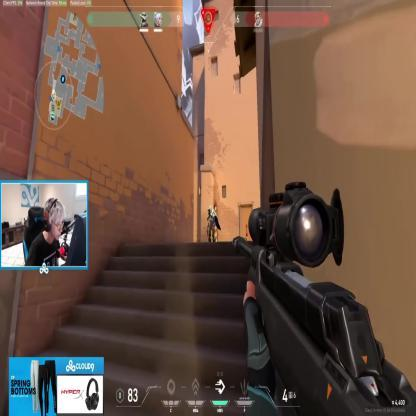enemy: (206, 206, 216, 242)
enemy_head: (209, 206, 212, 212)
